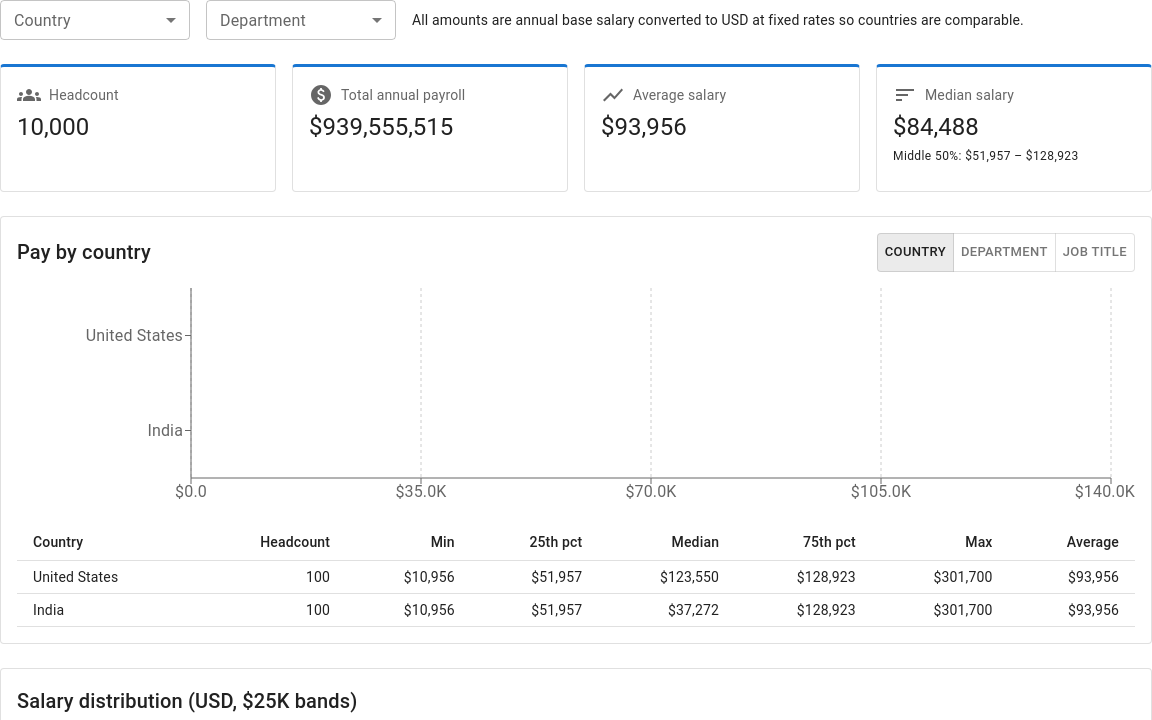
it: InsightsPage › asks for the new grouping when the toggle changes
Expected: the text "10,000" is shown, [17,113,89,141]
Step 1. Click the button "Job title" → (1095,252), box [1055,233,1135,272]
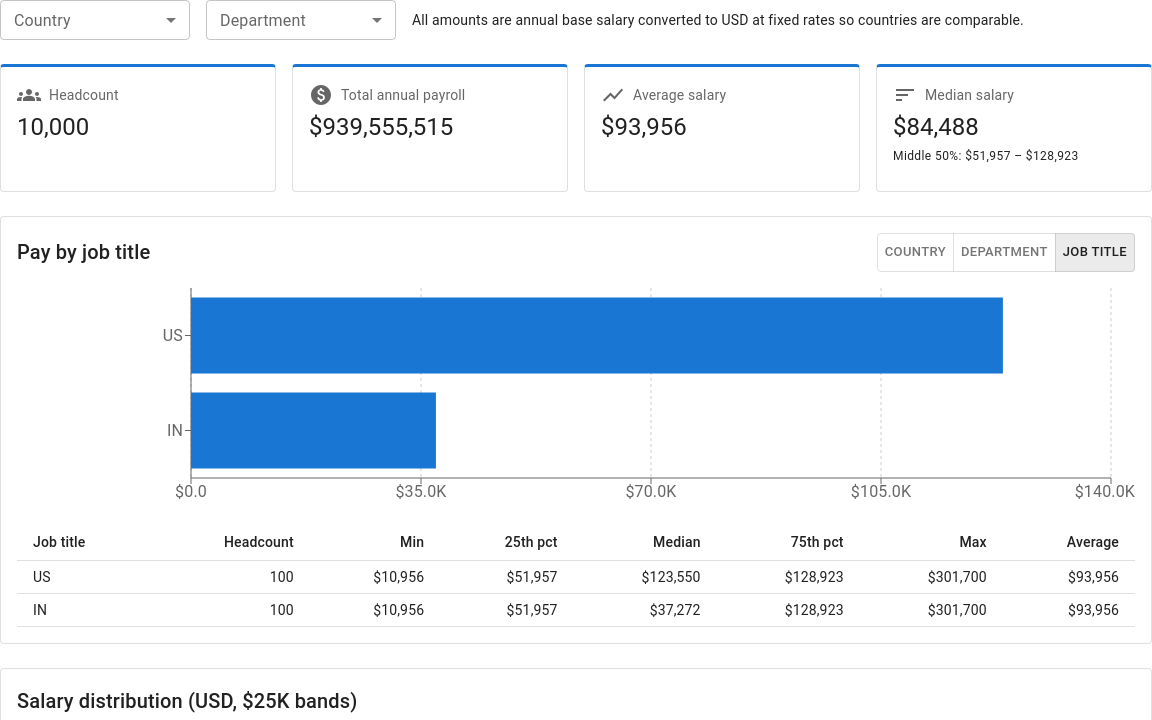
Now the heading "Pay by job title" is shown, box [17,236,150,268]
